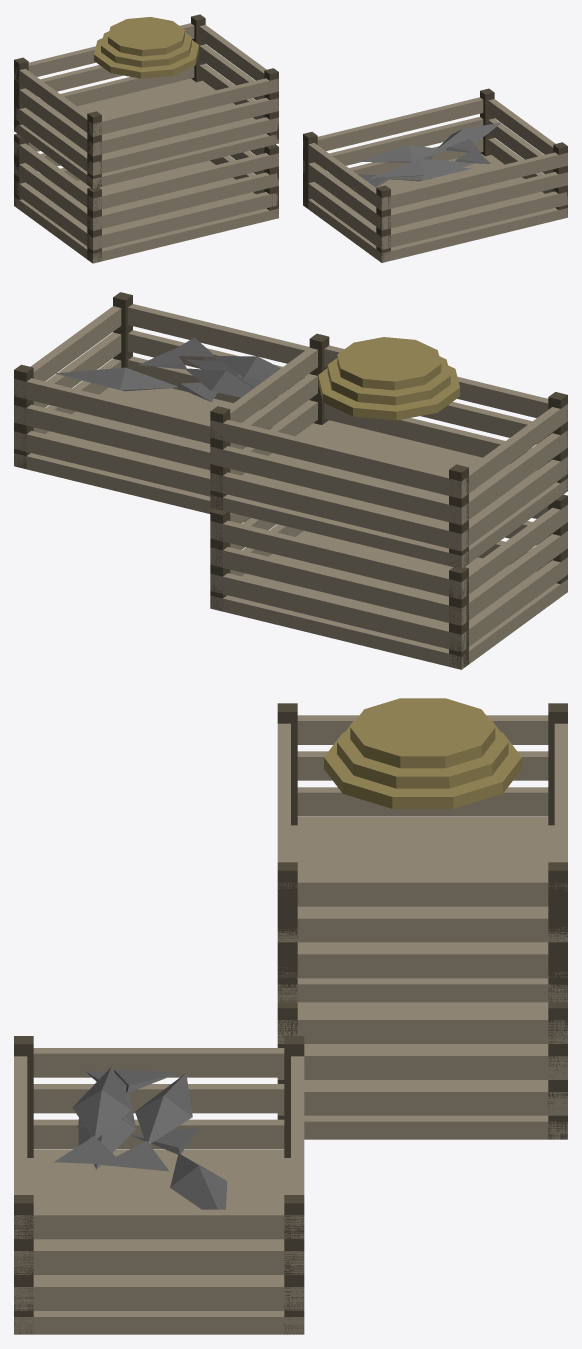
The model's file is FishCrates.fbx.
3 renders of one model, top to bottom at view 1: azimuth 30°, elevation 25°; view 2: azimuth 150°, elevation 25°; view 3: azimuth 270°, elevation 25°, orthographic. The views are drawn at different scales.
Visible parts, largest first — view 1: FishCrates; view 2: FishCrates; view 3: FishCrates.
Boxes of the visible parts, x1,y1,x2,y2 form: FishCrates: (14, 14, 567, 263); FishCrates: (14, 292, 567, 669); FishCrates: (14, 698, 567, 1334).
Size of the model in its own units: 1.3 by 0.55 by 0.84.
